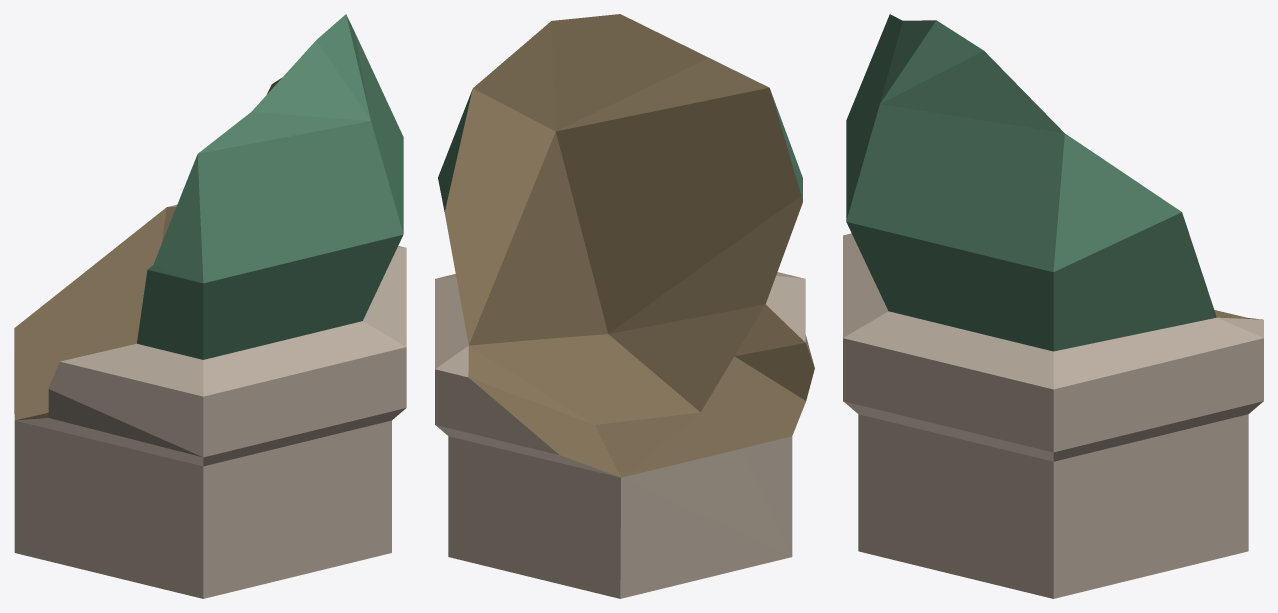
The model's file is SM_Bld_Roof_Cap_Destroyed_04.fbx.
The picture shows the model from 3 angles, left to right: view 1: azimuth 30°, elevation 25°; view 2: azimuth 150°, elevation 25°; view 3: azimuth 270°, elevation 25°; orthographic projection. The views are drawn at different scales.
Visible parts, largest first — view 1: SM_Bld_Roof_Cap_Destroyed_04; view 2: SM_Bld_Roof_Cap_Destroyed_04; view 3: SM_Bld_Roof_Cap_Destroyed_04.
Boxes of the visible parts, x1,y1,x2,y2 form: SM_Bld_Roof_Cap_Destroyed_04: [14, 14, 406, 598]; SM_Bld_Roof_Cap_Destroyed_04: [435, 14, 814, 598]; SM_Bld_Roof_Cap_Destroyed_04: [843, 14, 1263, 598].
Size of the model in its own units: 74.96 by 90.39 by 67.36.
